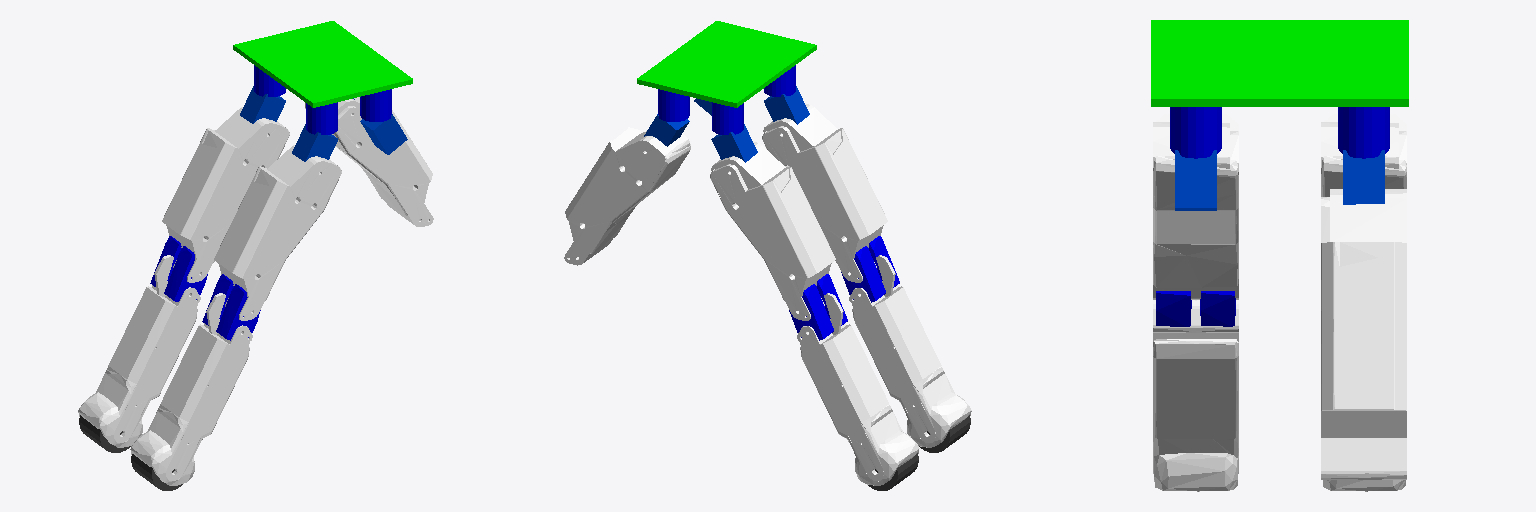
robot.urdf — AeroLowerRobot:
<?xml version="1.0"?>
<robot name="AeroLowerRobot"
       xmlns:xi="http://www.w3.org/2001/XInclude"
       xmlns:gazebo="http://playerstage.sourceforge.net/gazebo/xmlschema/#gz"
       xmlns:model="http://playerstage.sourceforge.net/gazebo/xmlschema/#model"
       xmlns:sensor="http://playerstage.sourceforge.net/gazebo/xmlschema/#sensor"
       xmlns:body="http://playerstage.sourceforge.net/gazebo/xmlschema/#body"
       xmlns:geom="http://playerstage.sourceforge.net/gazebo/xmlschema/#geom"
       xmlns:joint="http://playerstage.sourceforge.net/gazebo/xmlschema/#joint"
       xmlns:interface="http://playerstage.sourceforge.net/gazebo/xmlschema/#interface"
       xmlns:rendering="http://playerstage.sourceforge.net/gazebo/xmlschema/#rendering"
       xmlns:renderable="http://playerstage.sourceforge.net/gazebo/xmlschema/#renderable"
       xmlns:controller="http://playerstage.sourceforge.net/gazebo/xmlschema/#controller"
       xmlns:physics="http://playerstage.sourceforge.net/gazebo/xmlschema/#physics">
  <link name="WAIST_LINK0">
    <visual>
      <origin xyz="0 0 0.7235" rpy="0 -0 0"/>
      <geometry>
        <mesh filename="package://aero_description/models/aero-lower_meshes/WAIST_LINK0_mesh.dae" scale="1 1 1" />
      </geometry>
    </visual>
    <collision>
      <origin xyz="0 0 0.7235" rpy="0 -0 0"/>
      <geometry>
        <mesh filename="package://aero_description/models/aero-lower_meshes/WAIST_LINK0_mesh.dae" scale="1 1 1" />
      </geometry>
    </collision>
    <inertial>
      <mass value="0" />
      <origin xyz="0 0 0" rpy="0 -0 0"/>
      <inertia ixx="0" ixy="0" ixz="0" iyy="0" iyz="0" izz="0"/>
    </inertial>
  </link>
  <gazebo reference="WAIST_LINK0">
    <mu1>0.9</mu1>
    <mu2>0.9</mu2>
  </gazebo>
  <link name="WAIST_LINK1">
    <visual>
      <origin xyz="0 0 0" rpy="0 -0 0"/>
      <geometry>
        <mesh filename="package://aero_description/models/aero-lower_meshes/WAIST_LINK1_mesh.dae" scale="1 1 1" />
      </geometry>
    </visual>
    <collision>
      <origin xyz="0 0 0" rpy="0 -0 0"/>
      <geometry>
        <mesh filename="package://aero_description/models/aero-lower_meshes/WAIST_LINK1_mesh.dae" scale="1 1 1" />
      </geometry>
    </collision>
    <inertial>
      <mass value="7.64604" />
      <origin xyz="-0.012819 -0.002679 0.007207" rpy="0 -0 0"/>
      <inertia ixx="0.0658136" ixy="-0.000159462" ixz="0.010103" iyy="0.0504268" iyz="0.000173435" izz="0.0889772"/>
    </inertial>
  </link>
  <gazebo reference="WAIST_LINK1">
    <mu1>0.9</mu1>
    <mu2>0.9</mu2>
  </gazebo>
  <link name="LARM_LINK1">
    <visual>
      <origin xyz="0.06 0.1 -0.087" rpy="0 -0 0"/>
      <geometry>
        <mesh filename="package://aero_description/models/aero-lower_meshes/LARM_LINK1_mesh.dae" scale="1 1 1" />
      </geometry>
    </visual>
    <collision>
      <origin xyz="0.06 0.1 -0.087" rpy="0 -0 0"/>
      <geometry>
        <mesh filename="package://aero_description/models/aero-lower_meshes/LARM_LINK1_mesh.dae" scale="1 1 1" />
      </geometry>
    </collision>
    <inertial>
      <mass value="0.262933" />
      <origin xyz="0.0339853 0.009895 -0.0268937" rpy="0 -0 0"/>
      <inertia ixx="0.000323238" ixy="7.5376e-06" ixz="-4.6651e-06" iyy="0.000199716" iyz="-1.3948e-05" izz="0.000214642"/>
    </inertial>
  </link>
  <gazebo reference="LARM_LINK1">
    <mu1>0.9</mu1>
    <mu2>0.9</mu2>
  </gazebo>
  <link name="LARM_LINK2">
    <visual>
      <origin xyz="0.0338084 0 -0.060551" rpy="0 -0 0"/>
      <geometry>
        <mesh filename="package://aero_description/models/aero-lower_meshes/LARM_LINK2_mesh.dae" scale="1 1 1" />
      </geometry>
    </visual>
    <collision>
      <origin xyz="0.0338084 0 -0.060551" rpy="0 -0 0"/>
      <geometry>
        <mesh filename="package://aero_description/models/aero-lower_meshes/LARM_LINK2_mesh.dae" scale="1 1 1" />
      </geometry>
    </collision>
    <inertial>
      <mass value="2.62321" />
      <origin xyz="0.0587169 0 -0.135292" rpy="0 -0 0"/>
      <inertia ixx="0.0161595" ixy="-9.27234e-05" ixz="0.00262839" iyy="0.0166415" iyz="-0.00017447" izz="0.00477281"/>
    </inertial>
  </link>
  <gazebo reference="LARM_LINK2">
    <mu1>0.9</mu1>
    <mu2>0.9</mu2>
  </gazebo>
  <link name="LARM_LINK3">
    <visual>
      <origin xyz="0.150005 0 -0.259808" rpy="0 -0 0"/>
      <geometry>
        <mesh filename="package://aero_description/models/aero-lower_meshes/LARM_LINK3_mesh.dae" scale="1 1 1" />
      </geometry>
    </visual>
    <collision>
      <origin xyz="0.150005 0 -0.259808" rpy="0 -0 0"/>
      <geometry>
        <mesh filename="package://aero_description/models/aero-lower_meshes/LARM_LINK3_mesh.dae" scale="1 1 1" />
      </geometry>
    </collision>
    <inertial>
      <mass value="2.06679" />
      <origin xyz="0.081713 0.000812 -0.146934" rpy="0 -0 0"/>
      <inertia ixx="0.0408818" ixy="-9.39301e-06" ixz="-0.000750165" iyy="0.0403969" iyz="-0.000120419" izz="0.00260982"/>
    </inertial>
  </link>
  <gazebo reference="LARM_LINK3">
    <mu1>0.9</mu1>
    <mu2>0.9</mu2>
  </gazebo>
  <link name="LLEG_LINK1">
    <visual>
      <origin xyz="-0.06 0.1 -0.087" rpy="0 -0 3.14159"/>
      <geometry>
        <mesh filename="package://aero_description/models/aero-lower_meshes/LLEG_LINK1_mesh.dae" scale="1 1 1" />
      </geometry>
    </visual>
    <collision>
      <origin xyz="-0.06 0.1 -0.087" rpy="0 -0 3.14159"/>
      <geometry>
        <mesh filename="package://aero_description/models/aero-lower_meshes/LLEG_LINK1_mesh.dae" scale="1 1 1" />
      </geometry>
    </collision>
    <inertial>
      <mass value="0.262933" />
      <origin xyz="0.0339853 -0.009895 -0.0268937" rpy="0 -0 0"/>
      <inertia ixx="0.000323238" ixy="7.5376e-06" ixz="-4.6651e-06" iyy="0.000199716" iyz="-1.3948e-05" izz="0.000214642"/>
    </inertial>
  </link>
  <gazebo reference="LLEG_LINK1">
    <mu1>0.9</mu1>
    <mu2>0.9</mu2>
  </gazebo>
  <link name="LLEG_LINK2">
    <visual>
      <origin xyz="0.0338084 0 -0.060551" rpy="0 -0 0"/>
      <geometry>
        <mesh filename="package://aero_description/models/aero-lower_meshes/LLEG_LINK2_mesh.dae" scale="1 1 1" />
      </geometry>
    </visual>
    <collision>
      <origin xyz="0.0338084 0 -0.060551" rpy="0 -0 0"/>
      <geometry>
        <mesh filename="package://aero_description/models/aero-lower_meshes/LLEG_LINK2_mesh.dae" scale="1 1 1" />
      </geometry>
    </collision>
    <inertial>
      <mass value="2.62321" />
      <origin xyz="0.0587169 1.38778e-17 -0.135292" rpy="0 -0 0"/>
      <inertia ixx="0.0161595" ixy="-9.27234e-05" ixz="0.00262839" iyy="0.0166415" iyz="-0.00017447" izz="0.00477281"/>
    </inertial>
  </link>
  <gazebo reference="LLEG_LINK2">
    <mu1>0.9</mu1>
    <mu2>0.9</mu2>
  </gazebo>
  <link name="LLEG_LINK3">
    <visual>
      <origin xyz="0.150005 0 -0.259808" rpy="0 -0 0"/>
      <geometry>
        <mesh filename="package://aero_description/models/aero-lower_meshes/LLEG_LINK3_mesh.dae" scale="1 1 1" />
      </geometry>
    </visual>
    <collision>
      <origin xyz="0.150005 0 -0.259808" rpy="0 -0 0"/>
      <geometry>
        <mesh filename="package://aero_description/models/aero-lower_meshes/LLEG_LINK3_mesh.dae" scale="1 1 1" />
      </geometry>
    </collision>
    <inertial>
      <mass value="2.06679" />
      <origin xyz="0.081713 0.000812 -0.146934" rpy="0 -0 0"/>
      <inertia ixx="0.0408818" ixy="-9.39301e-06" ixz="-0.000750165" iyy="0.0403969" iyz="-0.000120419" izz="0.00260982"/>
    </inertial>
  </link>
  <gazebo reference="LLEG_LINK3">
    <mu1>0.9</mu1>
    <mu2>0.9</mu2>
  </gazebo>
  <link name="RARM_LINK1">
    <visual>
      <origin xyz="0.06 -0.1 -0.087" rpy="0 -0 0"/>
      <geometry>
        <mesh filename="package://aero_description/models/aero-lower_meshes/RARM_LINK1_mesh.dae" scale="1 1 1" />
      </geometry>
    </visual>
    <collision>
      <origin xyz="0.06 -0.1 -0.087" rpy="0 -0 0"/>
      <geometry>
        <mesh filename="package://aero_description/models/aero-lower_meshes/RARM_LINK1_mesh.dae" scale="1 1 1" />
      </geometry>
    </collision>
    <inertial>
      <mass value="0.262933" />
      <origin xyz="0.0339853 -0.009895 -0.0268937" rpy="0 -0 0"/>
      <inertia ixx="0.000323238" ixy="7.5376e-06" ixz="-4.6651e-06" iyy="0.000199716" iyz="-1.3948e-05" izz="0.000214642"/>
    </inertial>
  </link>
  <gazebo reference="RARM_LINK1">
    <mu1>0.9</mu1>
    <mu2>0.9</mu2>
  </gazebo>
  <link name="RARM_LINK2">
    <visual>
      <origin xyz="0.0338084 0 -0.060551" rpy="0 -0 0"/>
      <geometry>
        <mesh filename="package://aero_description/models/aero-lower_meshes/RARM_LINK2_mesh.dae" scale="1 1 1" />
      </geometry>
    </visual>
    <collision>
      <origin xyz="0.0338084 0 -0.060551" rpy="0 -0 0"/>
      <geometry>
        <mesh filename="package://aero_description/models/aero-lower_meshes/RARM_LINK2_mesh.dae" scale="1 1 1" />
      </geometry>
    </collision>
    <inertial>
      <mass value="2.62321" />
      <origin xyz="0.0587169 0 -0.135292" rpy="0 -0 0"/>
      <inertia ixx="0.0161595" ixy="-9.27234e-05" ixz="0.00262839" iyy="0.0166415" iyz="-0.00017447" izz="0.00477281"/>
    </inertial>
  </link>
  <gazebo reference="RARM_LINK2">
    <mu1>0.9</mu1>
    <mu2>0.9</mu2>
  </gazebo>
  <link name="RARM_LINK3">
    <visual>
      <origin xyz="0.150005 0 -0.259808" rpy="0 -0 0"/>
      <geometry>
        <mesh filename="package://aero_description/models/aero-lower_meshes/RARM_LINK3_mesh.dae" scale="1 1 1" />
      </geometry>
    </visual>
    <collision>
      <origin xyz="0.150005 0 -0.259808" rpy="0 -0 0"/>
      <geometry>
        <mesh filename="package://aero_description/models/aero-lower_meshes/RARM_LINK3_mesh.dae" scale="1 1 1" />
      </geometry>
    </collision>
    <inertial>
      <mass value="2.06679" />
      <origin xyz="0.081713 -0.000812 -0.146934" rpy="0 -0 0"/>
      <inertia ixx="0.0408818" ixy="-9.39301e-06" ixz="-0.000750165" iyy="0.0403969" iyz="-0.000120419" izz="0.00260982"/>
    </inertial>
  </link>
  <gazebo reference="RARM_LINK3">
    <mu1>0.9</mu1>
    <mu2>0.9</mu2>
  </gazebo>
  <link name="RLEG_LINK1">
    <visual>
      <origin xyz="-0.06 -0.1 -0.087" rpy="0 -0 3.14159"/>
      <geometry>
        <mesh filename="package://aero_description/models/aero-lower_meshes/RLEG_LINK1_mesh.dae" scale="1 1 1" />
      </geometry>
    </visual>
    <collision>
      <origin xyz="-0.06 -0.1 -0.087" rpy="0 -0 3.14159"/>
      <geometry>
        <mesh filename="package://aero_description/models/aero-lower_meshes/RLEG_LINK1_mesh.dae" scale="1 1 1" />
      </geometry>
    </collision>
    <inertial>
      <mass value="0.262933" />
      <origin xyz="0.0339853 0.009895 -0.0268937" rpy="0 -0 0"/>
      <inertia ixx="0.000323238" ixy="7.5376e-06" ixz="-4.6651e-06" iyy="0.000199716" iyz="-1.3948e-05" izz="0.000214642"/>
    </inertial>
  </link>
  <gazebo reference="RLEG_LINK1">
    <mu1>0.9</mu1>
    <mu2>0.9</mu2>
  </gazebo>
  <link name="RLEG_LINK2">
    <visual>
      <origin xyz="0.0338084 0 -0.060551" rpy="0 -0 0"/>
      <geometry>
        <mesh filename="package://aero_description/models/aero-lower_meshes/RLEG_LINK2_mesh.dae" scale="1 1 1" />
      </geometry>
    </visual>
    <collision>
      <origin xyz="0.0338084 0 -0.060551" rpy="0 -0 0"/>
      <geometry>
        <mesh filename="package://aero_description/models/aero-lower_meshes/RLEG_LINK2_mesh.dae" scale="1 1 1" />
      </geometry>
    </collision>
    <inertial>
      <mass value="2.62321" />
      <origin xyz="0.0587169 1.38778e-17 -0.135292" rpy="0 -0 0"/>
      <inertia ixx="0.0161595" ixy="-9.27234e-05" ixz="0.00262839" iyy="0.0166415" iyz="-0.00017447" izz="0.00477281"/>
    </inertial>
  </link>
  <gazebo reference="RLEG_LINK2">
    <mu1>0.9</mu1>
    <mu2>0.9</mu2>
  </gazebo>
  <link name="RLEG_LINK3">
    <visual>
      <origin xyz="0.150005 0 -0.259808" rpy="0 -0 0"/>
      <geometry>
        <mesh filename="package://aero_description/models/aero-lower_meshes/RLEG_LINK3_mesh.dae" scale="1 1 1" />
      </geometry>
    </visual>
    <collision>
      <origin xyz="0.150005 0 -0.259808" rpy="0 -0 0"/>
      <geometry>
        <mesh filename="package://aero_description/models/aero-lower_meshes/RLEG_LINK3_mesh.dae" scale="1 1 1" />
      </geometry>
    </collision>
    <inertial>
      <mass value="2.06679" />
      <origin xyz="0.081713 0.000812 -0.146934" rpy="0 -0 0"/>
      <inertia ixx="0.0408818" ixy="-9.39301e-06" ixz="-0.000750165" iyy="0.0403969" iyz="-0.000120419" izz="0.00260982"/>
    </inertial>
  </link>
  <gazebo reference="RLEG_LINK3">
    <mu1>0.9</mu1>
    <mu2>0.9</mu2>
  </gazebo>
  <joint name="WAIST_Y" type="continuous">
    <parent link="WAIST_LINK0"/>
    <child  link="WAIST_LINK1"/>
    <origin xyz="0 0 0" rpy="0 -0 0 "/>
    <axis   xyz="0 0 1"/>
    <limit lower="-3.14159" upper="3.14159" effort="100" velocity="0.5" />
    <dynamics damping="0.2" friction="0" />
  </joint>
  <transmission type="pr2_mechanism_model/SimpleTransmission" name="WAIST_Y_trans" >
    <actuator name="WAIST_Y_motor" />
    <joint name="WAIST_Y" />
    <mechanicalReduction>1</mechanicalReduction>
  </transmission>
  <gazebo reference="WAIST_Y">
    <cfmDamping>0.4</cfmDamping>
  </gazebo>
  <joint name="LARM_SHOULDER_Y" type="continuous">
    <parent link="WAIST_LINK1"/>
    <child  link="LARM_LINK1"/>
    <origin xyz="0.06 0.1 -0.087" rpy="0 -0 0 "/>
    <axis   xyz="0 0 1"/>
    <limit lower="-3.14159" upper="3.14159" effort="100" velocity="0.5" />
    <dynamics damping="0.2" friction="0" />
  </joint>
  <transmission type="pr2_mechanism_model/SimpleTransmission" name="LARM_SHOULDER_Y_trans" >
    <actuator name="LARM_SHOULDER_Y_motor" />
    <joint name="LARM_SHOULDER_Y" />
    <mechanicalReduction>1</mechanicalReduction>
  </transmission>
  <gazebo reference="LARM_SHOULDER_Y">
    <cfmDamping>0.4</cfmDamping>
  </gazebo>
  <joint name="LARM_SHOULDER_P" type="revolute">
    <parent link="LARM_LINK1"/>
    <child  link="LARM_LINK2"/>
    <origin xyz="0.0338084 0 -0.060551" rpy="0 -0 0 "/>
    <axis   xyz="0 -1 0"/>
    <limit lower="0" upper="1.5708" effort="100" velocity="0.5" />
    <dynamics damping="0.2" friction="0" />
  </joint>
  <transmission type="pr2_mechanism_model/SimpleTransmission" name="LARM_SHOULDER_P_trans" >
    <actuator name="LARM_SHOULDER_P_motor" />
    <joint name="LARM_SHOULDER_P" />
    <mechanicalReduction>1</mechanicalReduction>
  </transmission>
  <gazebo reference="LARM_SHOULDER_P">
    <cfmDamping>0.4</cfmDamping>
  </gazebo>
  <joint name="LARM_ELBOW" type="revolute">
    <parent link="LARM_LINK2"/>
    <child  link="LARM_LINK3"/>
    <origin xyz="0.150005 0 -0.259808" rpy="0 -0 0 "/>
    <axis   xyz="0 1 0"/>
    <limit lower="0" upper="2.79252" effort="100" velocity="0.5" />
    <dynamics damping="0.2" friction="0" />
  </joint>
  <transmission type="pr2_mechanism_model/SimpleTransmission" name="LARM_ELBOW_trans" >
    <actuator name="LARM_ELBOW_motor" />
    <joint name="LARM_ELBOW" />
    <mechanicalReduction>1</mechanicalReduction>
  </transmission>
  <gazebo reference="LARM_ELBOW">
    <cfmDamping>0.4</cfmDamping>
  </gazebo>
  <joint name="LLEG_HIP_Y" type="continuous">
    <parent link="WAIST_LINK1"/>
    <child  link="LLEG_LINK1"/>
    <origin xyz="-0.06 0.1 -0.087" rpy="0 -0 3.14159 "/>
    <axis   xyz="0 0 1"/>
    <limit lower="-3.14159" upper="3.14159" effort="100" velocity="0.5" />
    <dynamics damping="0.2" friction="0" />
  </joint>
  <transmission type="pr2_mechanism_model/SimpleTransmission" name="LLEG_HIP_Y_trans" >
    <actuator name="LLEG_HIP_Y_motor" />
    <joint name="LLEG_HIP_Y" />
    <mechanicalReduction>1</mechanicalReduction>
  </transmission>
  <gazebo reference="LLEG_HIP_Y">
    <cfmDamping>0.4</cfmDamping>
  </gazebo>
  <joint name="LLEG_HIP_P" type="revolute">
    <parent link="LLEG_LINK1"/>
    <child  link="LLEG_LINK2"/>
    <origin xyz="0.0338084 0 -0.060551" rpy="0 -0 0 "/>
    <axis   xyz="0 -1 0"/>
    <limit lower="0" upper="1.5708" effort="100" velocity="0.5" />
    <dynamics damping="0.2" friction="0" />
  </joint>
  <transmission type="pr2_mechanism_model/SimpleTransmission" name="LLEG_HIP_P_trans" >
    <actuator name="LLEG_HIP_P_motor" />
    <joint name="LLEG_HIP_P" />
    <mechanicalReduction>1</mechanicalReduction>
  </transmission>
  <gazebo reference="LLEG_HIP_P">
    <cfmDamping>0.4</cfmDamping>
  </gazebo>
  <joint name="LLEG_KNEE" type="revolute">
    <parent link="LLEG_LINK2"/>
    <child  link="LLEG_LINK3"/>
    <origin xyz="0.150005 0 -0.259808" rpy="0 -0 0 "/>
    <axis   xyz="0 1 0"/>
    <limit lower="0" upper="2.79252" effort="100" velocity="0.5" />
    <dynamics damping="0.2" friction="0" />
  </joint>
  <transmission type="pr2_mechanism_model/SimpleTransmission" name="LLEG_KNEE_trans" >
    <actuator name="LLEG_KNEE_motor" />
    <joint name="LLEG_KNEE" />
    <mechanicalReduction>1</mechanicalReduction>
  </transmission>
  <gazebo reference="LLEG_KNEE">
    <cfmDamping>0.4</cfmDamping>
  </gazebo>
  <joint name="RARM_SHOULDER_Y" type="continuous">
    <parent link="WAIST_LINK1"/>
    <child  link="RARM_LINK1"/>
    <origin xyz="0.06 -0.1 -0.087" rpy="0 -0 0 "/>
    <axis   xyz="0 0 1"/>
    <limit lower="-3.14159" upper="3.14159" effort="100" velocity="0.5" />
    <dynamics damping="0.2" friction="0" />
  </joint>
  <transmission type="pr2_mechanism_model/SimpleTransmission" name="RARM_SHOULDER_Y_trans" >
    <actuator name="RARM_SHOULDER_Y_motor" />
    <joint name="RARM_SHOULDER_Y" />
    <mechanicalReduction>1</mechanicalReduction>
  </transmission>
  <gazebo reference="RARM_SHOULDER_Y">
    <cfmDamping>0.4</cfmDamping>
  </gazebo>
  <joint name="RARM_SHOULDER_P" type="revolute">
    <parent link="RARM_LINK1"/>
    <child  link="RARM_LINK2"/>
    <origin xyz="0.0338084 0 -0.060551" rpy="0 -0 0 "/>
    <axis   xyz="0 -1 0"/>
    <limit lower="0" upper="1.5708" effort="100" velocity="0.5" />
    <dynamics damping="0.2" friction="0" />
  </joint>
  <transmission type="pr2_mechanism_model/SimpleTransmission" name="RARM_SHOULDER_P_trans" >
    <actuator name="RARM_SHOULDER_P_motor" />
    <joint name="RARM_SHOULDER_P" />
    <mechanicalReduction>1</mechanicalReduction>
  </transmission>
  <gazebo reference="RARM_SHOULDER_P">
    <cfmDamping>0.4</cfmDamping>
  </gazebo>
  <joint name="RARM_ELBOW" type="revolute">
    <parent link="RARM_LINK2"/>
    <child  link="RARM_LINK3"/>
    <origin xyz="0.150005 0 -0.259808" rpy="0 -0 0 "/>
    <axis   xyz="0 1 0"/>
    <limit lower="0" upper="2.79252" effort="100" velocity="0.5" />
    <dynamics damping="0.2" friction="0" />
  </joint>
  <transmission type="pr2_mechanism_model/SimpleTransmission" name="RARM_ELBOW_trans" >
    <actuator name="RARM_ELBOW_motor" />
    <joint name="RARM_ELBOW" />
    <mechanicalReduction>1</mechanicalReduction>
  </transmission>
  <gazebo reference="RARM_ELBOW">
    <cfmDamping>0.4</cfmDamping>
  </gazebo>
  <joint name="RLEG_HIP_Y" type="continuous">
    <parent link="WAIST_LINK1"/>
    <child  link="RLEG_LINK1"/>
    <origin xyz="-0.06 -0.1 -0.087" rpy="0 -0 3.14159 "/>
    <axis   xyz="0 0 1"/>
    <limit lower="-3.14159" upper="3.14159" effort="100" velocity="0.5" />
    <dynamics damping="0.2" friction="0" />
  </joint>
  <transmission type="pr2_mechanism_model/SimpleTransmission" name="RLEG_HIP_Y_trans" >
    <actuator name="RLEG_HIP_Y_motor" />
    <joint name="RLEG_HIP_Y" />
    <mechanicalReduction>1</mechanicalReduction>
  </transmission>
  <gazebo reference="RLEG_HIP_Y">
    <cfmDamping>0.4</cfmDamping>
  </gazebo>
  <joint name="RLEG_HIP_P" type="revolute">
    <parent link="RLEG_LINK1"/>
    <child  link="RLEG_LINK2"/>
    <origin xyz="0.0338084 0 -0.060551" rpy="0 -0 0 "/>
    <axis   xyz="0 -1 0"/>
    <limit lower="0" upper="1.5708" effort="100" velocity="0.5" />
    <dynamics damping="0.2" friction="0" />
  </joint>
  <transmission type="pr2_mechanism_model/SimpleTransmission" name="RLEG_HIP_P_trans" >
    <actuator name="RLEG_HIP_P_motor" />
    <joint name="RLEG_HIP_P" />
    <mechanicalReduction>1</mechanicalReduction>
  </transmission>
  <gazebo reference="RLEG_HIP_P">
    <cfmDamping>0.4</cfmDamping>
  </gazebo>
  <joint name="RLEG_KNEE" type="revolute">
    <parent link="RLEG_LINK2"/>
    <child  link="RLEG_LINK3"/>
    <origin xyz="0.150005 0 -0.259808" rpy="0 -0 0 "/>
    <axis   xyz="0 1 0"/>
    <limit lower="0" upper="2.79252" effort="100" velocity="0.5" />
    <dynamics damping="0.2" friction="0" />
  </joint>
  <transmission type="pr2_mechanism_model/SimpleTransmission" name="RLEG_KNEE_trans" >
    <actuator name="RLEG_KNEE_motor" />
    <joint name="RLEG_KNEE" />
    <mechanicalReduction>1</mechanicalReduction>
  </transmission>
  <gazebo reference="RLEG_KNEE">
    <cfmDamping>0.4</cfmDamping>
  </gazebo>
</robot>

--- What the picture shows (computed from the rendered views, not written in the file) ---
Views: 3 orthographic renders of the robot side by side, from view 1: azimuth 30°, elevation 25°; view 2: azimuth 150°, elevation 25°; view 3: azimuth 270°, elevation 25°.
Robot: AeroLowerRobot — 14 links, 13 joints (8 revolute, 5 continuous); root link WAIST_LINK0; default pose: every joint at zero.
Links seen in each view (by area): view 1: RLEG_LINK3, LLEG_LINK3, WAIST_LINK1, RLEG_LINK2, LLEG_LINK2, LARM_LINK2, RARM_LINK1, RLEG_LINK1, LLEG_LINK1; view 2: LLEG_LINK3, RLEG_LINK3, WAIST_LINK1, LLEG_LINK2, RLEG_LINK2, LARM_LINK2, LLEG_LINK1, RLEG_LINK1, LARM_LINK1; view 3: WAIST_LINK1, LARM_LINK2, RLEG_LINK3, RLEG_LINK2, LLEG_LINK2, RARM_LINK1, LARM_LINK1, LLEG_LINK3.
Boxes of the visible links, x1,y1,x2,y2 form: RLEG_LINK3: [130, 274, 260, 490]; LLEG_LINK3: [78, 236, 207, 452]; WAIST_LINK1: [233, 21, 412, 134]; RLEG_LINK2: [214, 145, 341, 320]; LLEG_LINK2: [162, 107, 289, 282]; LARM_LINK2: [305, 97, 433, 226]; RARM_LINK1: [360, 114, 407, 154]; RLEG_LINK1: [292, 124, 337, 161]; LLEG_LINK1: [240, 86, 285, 123]; LLEG_LINK3: [789, 274, 919, 490]; RLEG_LINK3: [841, 236, 971, 452]; WAIST_LINK1: [637, 21, 816, 134]; LLEG_LINK2: [710, 142, 835, 320]; RLEG_LINK2: [762, 104, 887, 282]; LARM_LINK2: [564, 127, 690, 265]; LLEG_LINK1: [711, 124, 757, 162]; RLEG_LINK1: [764, 86, 809, 124]; LARM_LINK1: [644, 114, 689, 146]; WAIST_LINK1: [1151, 20, 1408, 158]; LARM_LINK2: [1321, 189, 1406, 479]; RLEG_LINK3: [1153, 291, 1238, 491]; RLEG_LINK2: [1153, 114, 1238, 299]; LLEG_LINK2: [1321, 114, 1406, 196]; RARM_LINK1: [1175, 150, 1216, 210]; LARM_LINK1: [1343, 150, 1384, 204]; LLEG_LINK3: [1323, 480, 1405, 491].
Bounding box of the posed robot: 0.7439 × 0.3076 × 0.7556 m (x, y, z).
10 mesh visuals loaded from 14 distinct referenced files (10 Collada DAE); not drawn: 4 (reference not matched to a file when rendering).